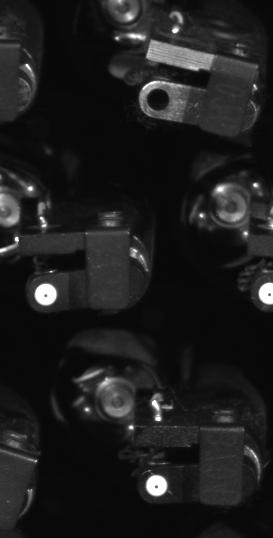fiber: (31, 277, 63, 312), (142, 471, 169, 503), (257, 277, 273, 311)
